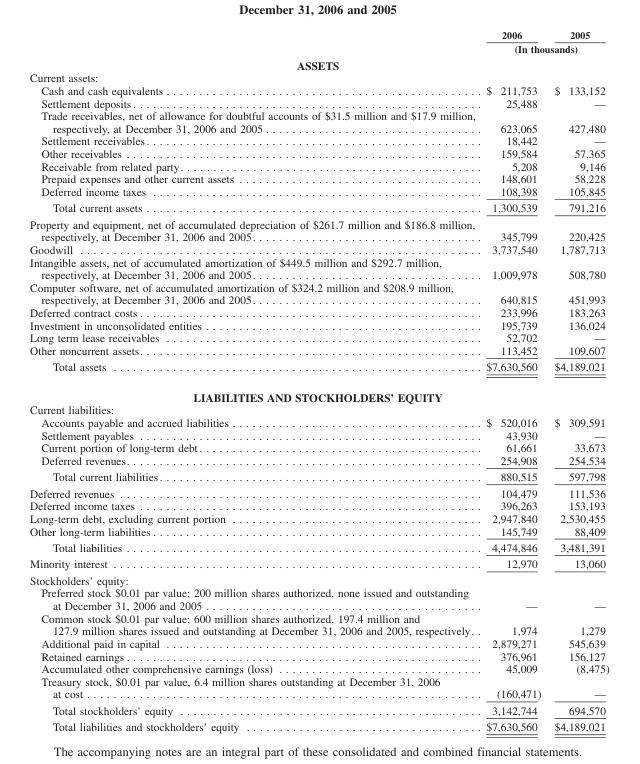table: (29, 28, 608, 732)
table column: (29, 28, 480, 732), (480, 28, 547, 732), (547, 28, 608, 732)
table column header: (29, 28, 608, 56)
table projected row header: (29, 381, 608, 403), (29, 56, 608, 71), (29, 571, 608, 586), (29, 71, 608, 83), (29, 403, 608, 415)
table row: (29, 215, 608, 242), (29, 674, 608, 701), (29, 108, 608, 134), (29, 255, 608, 280), (29, 280, 608, 305), (29, 586, 608, 611), (29, 611, 608, 636), (29, 358, 608, 381), (29, 381, 608, 403), (29, 538, 608, 555), (29, 701, 608, 718), (29, 199, 608, 215), (29, 468, 608, 484), (29, 555, 608, 571), (29, 41, 608, 56), (29, 56, 608, 71), (29, 184, 608, 199), (29, 343, 608, 358), (29, 453, 608, 468), (29, 484, 608, 499), (29, 571, 608, 586), (29, 524, 608, 538), (29, 718, 608, 732), (29, 28, 608, 41), (29, 83, 608, 96), (29, 146, 608, 159), (29, 159, 608, 172), (29, 242, 608, 255), (29, 305, 608, 318), (29, 318, 608, 331), (29, 415, 608, 428), (29, 428, 608, 441), (29, 511, 608, 524), (29, 636, 608, 649), (29, 649, 608, 662), (29, 71, 608, 83), (29, 96, 608, 108), (29, 134, 608, 146), (29, 172, 608, 184), (29, 331, 608, 343), (29, 403, 608, 415), (29, 441, 608, 453), (29, 499, 608, 511), (29, 662, 608, 674)
table spanning cell: (480, 41, 608, 56)
